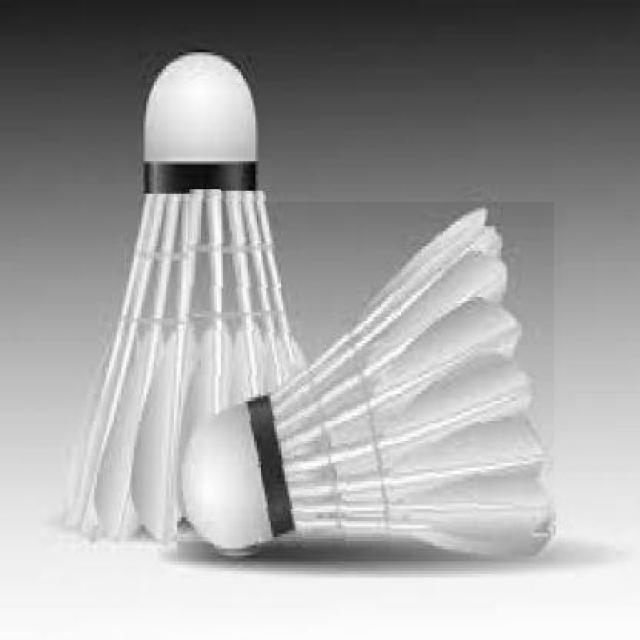Shuttlecock: (177, 200, 552, 560)
